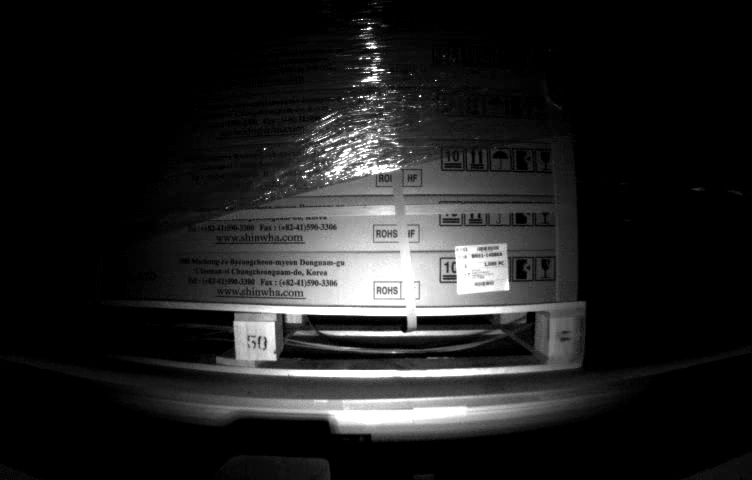True Barcode: (455, 243, 511, 289)
